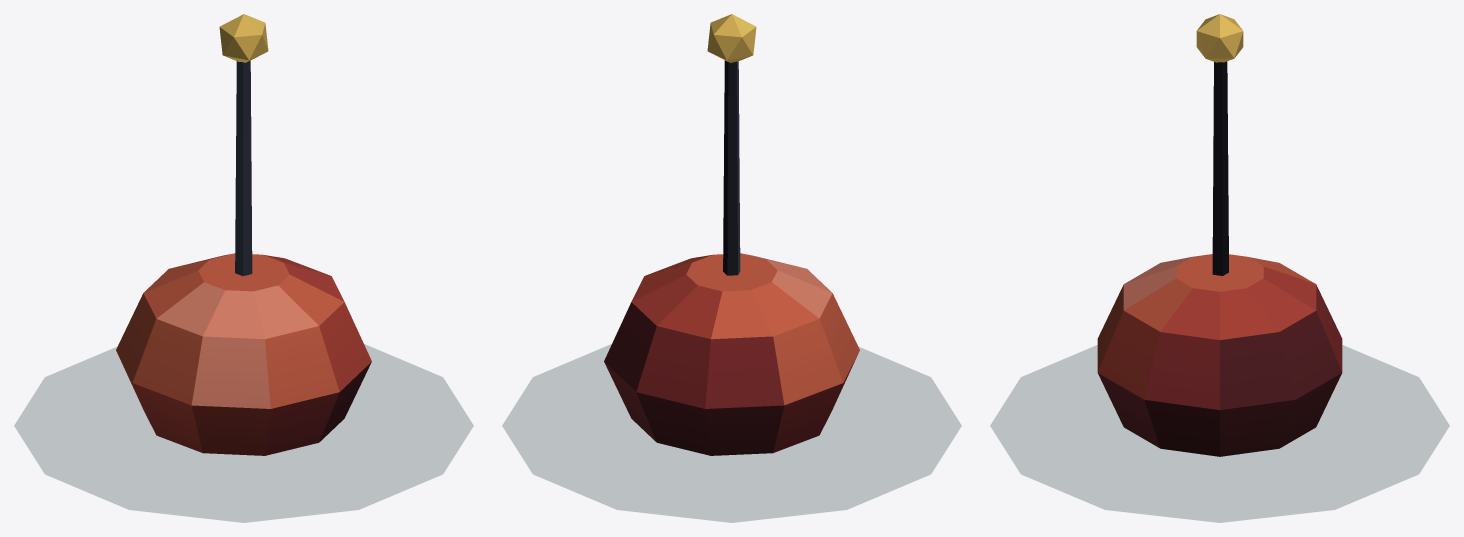
File: buoy.glb
3 renders of one model, left to right at view 1: azimuth 30°, elevation 25°; view 2: azimuth 150°, elevation 25°; view 3: azimuth 270°, elevation 25°, orthographic.
Visible parts, largest first — view 1: buoy; view 2: buoy; view 3: buoy.
Boxes of the visible parts, x1,y1,x2,y2 form: buoy: [14, 14, 473, 522]; buoy: [502, 14, 961, 522]; buoy: [990, 14, 1449, 522].
Bounding box in the file's own units: 1 × 1 × 1.
